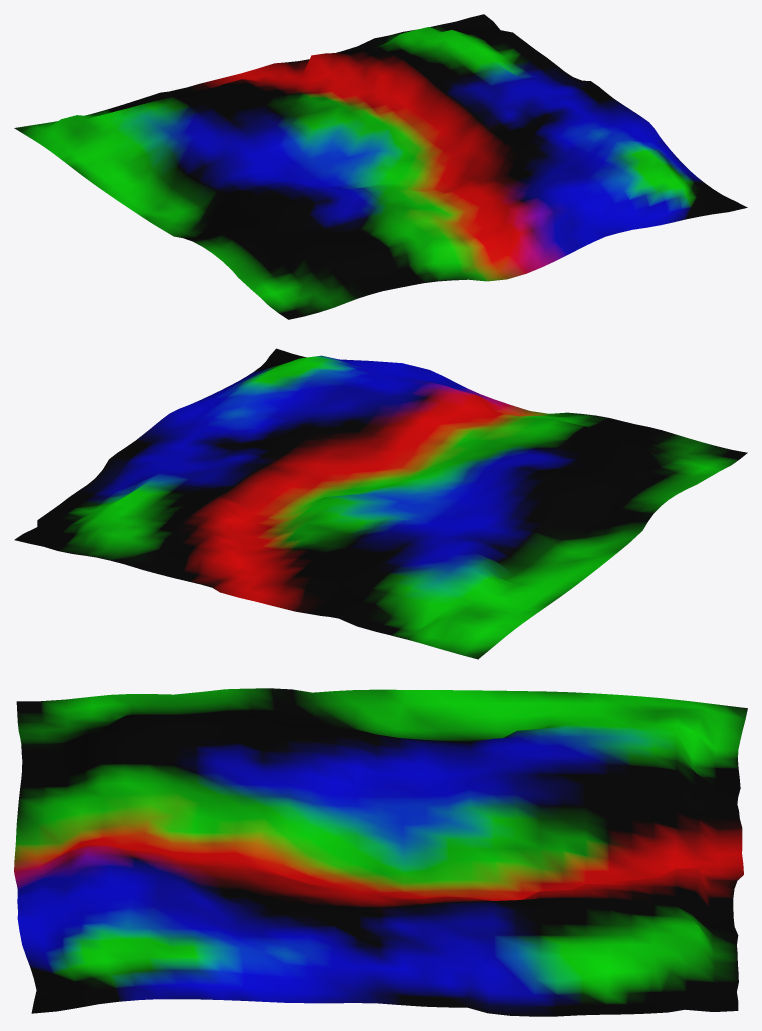
File: landscape_tile_00.gltf
The picture shows the model from 3 angles, top to bottom: view 1: azimuth 30°, elevation 25°; view 2: azimuth 150°, elevation 25°; view 3: azimuth 270°, elevation 25°; orthographic projection. The views are drawn at different scales.
Parts seen in each view (by area): view 1: Cube; view 2: Cube; view 3: Cube.
Part boxes in pixels (left/top/right/bottom): Cube: left=14, top=14, right=747, bottom=319; Cube: left=14, top=348, right=747, bottom=659; Cube: left=14, top=688, right=747, bottom=1016.
Bounding box in the file's own units: 20.42 × 1.34 × 20.1.
